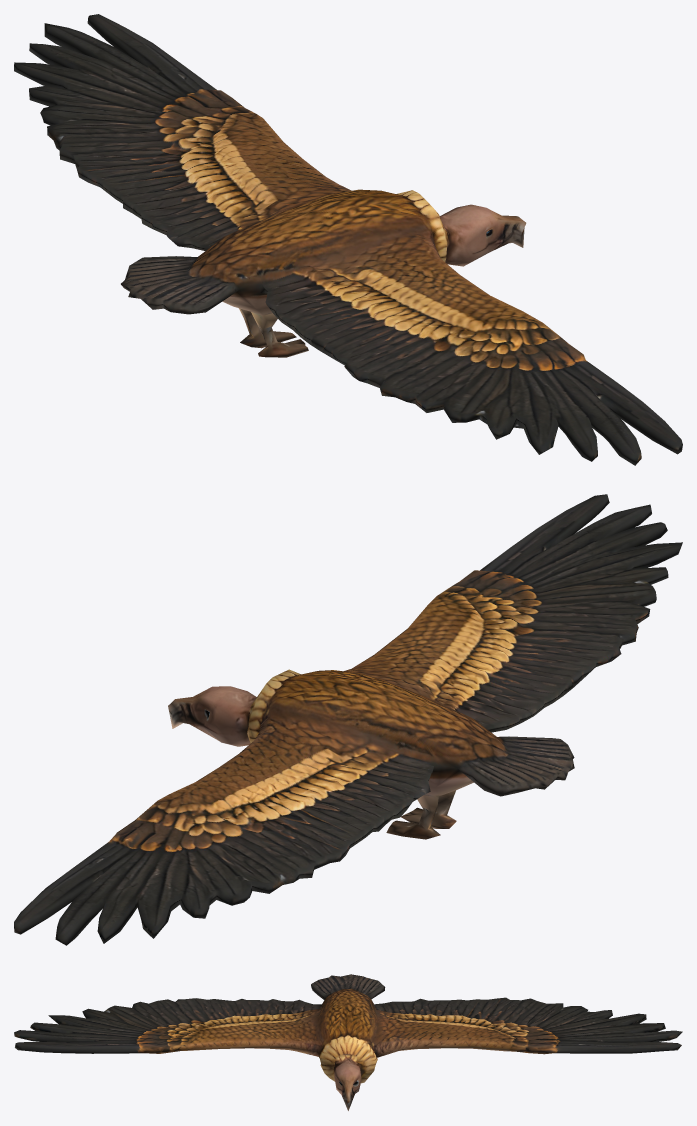
Rendered from vulture.glb.
The picture shows the model from 3 angles, top to bottom: view 1: azimuth 30°, elevation 25°; view 2: azimuth 150°, elevation 25°; view 3: azimuth 270°, elevation 25°; orthographic projection. The views are drawn at different scales.
Parts seen in each view (by area): view 1: tripo_node_72d058b7-927a-49b4-8186-b7f20b191c23; view 2: tripo_node_72d058b7-927a-49b4-8186-b7f20b191c23; view 3: tripo_node_72d058b7-927a-49b4-8186-b7f20b191c23.
Part boxes in pixels (x1=…): tripo_node_72d058b7-927a-49b4-8186-b7f20b191c23: x1=14, y1=14, x2=682, y2=465; tripo_node_72d058b7-927a-49b4-8186-b7f20b191c23: x1=14, y1=494, x2=682, y2=945; tripo_node_72d058b7-927a-49b4-8186-b7f20b191c23: x1=14, y1=974, x2=682, y2=1110.
Size of the model in its own units: 0.3872 by 0.1223 by 1.
1 material, 1 textured.
